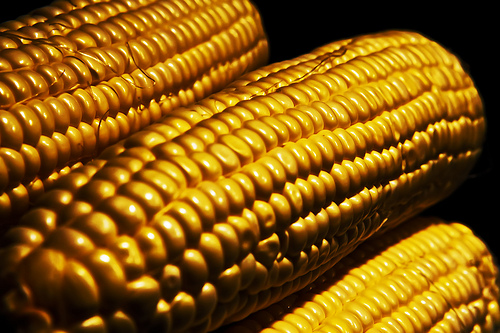corn: (10, 29, 488, 332), (0, 1, 269, 204)
